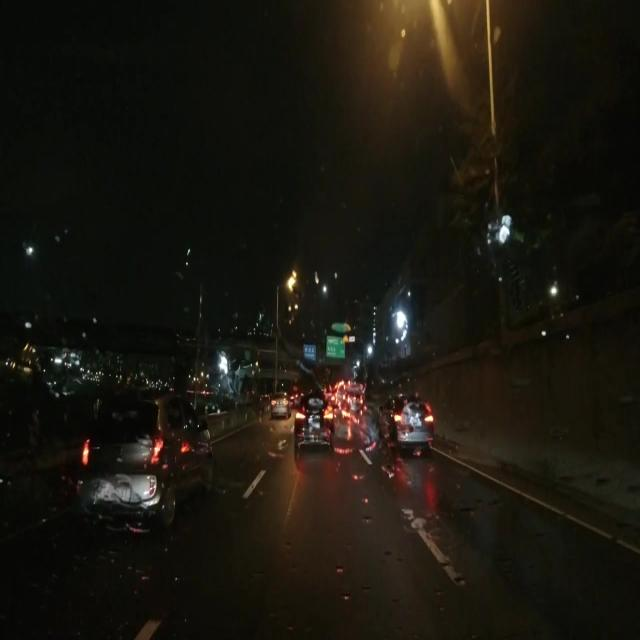Car: (78, 384, 211, 533), (375, 388, 434, 444), (296, 387, 331, 451), (269, 389, 291, 421)
